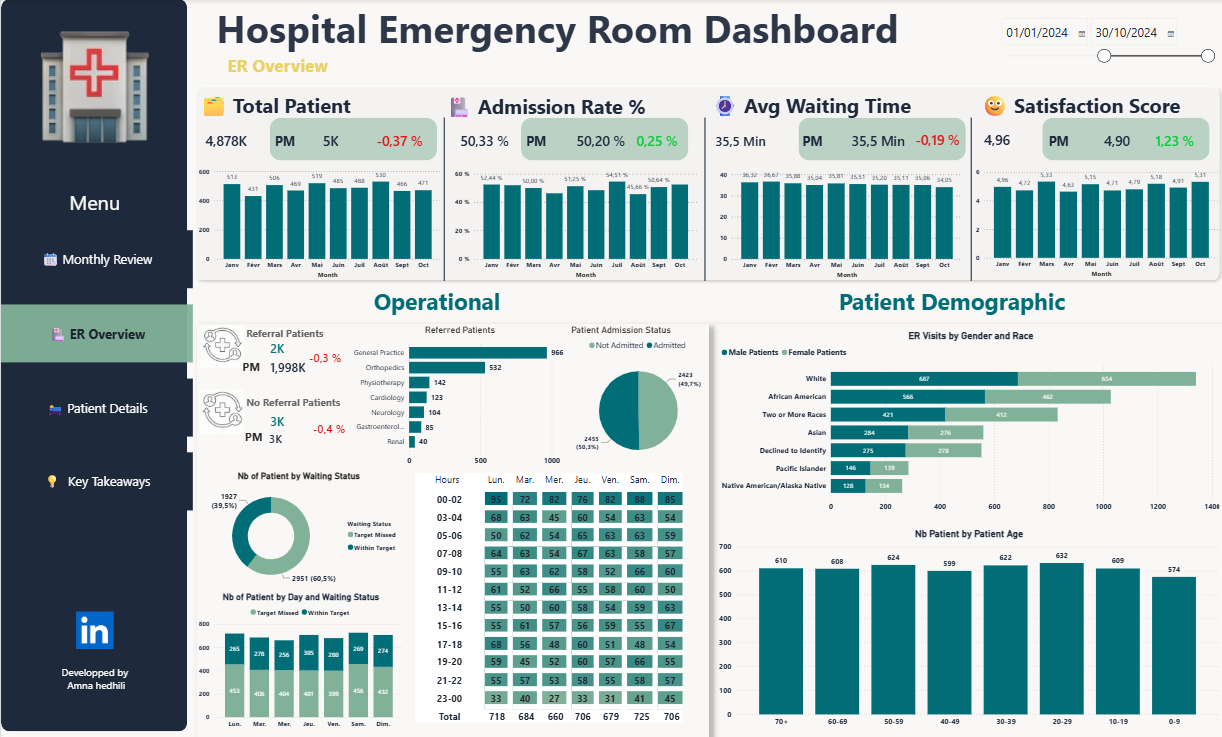

This screenshot's page, from the dashboard's own definition file:
{"tool":"powerbi","page":{"name":"🏥 ER Overview","canvas":[2300,1400],"ordinal":1},"visuals":[{"type":"shape","box":[367.5,610,960,790],"z":0},{"type":"shape","box":[1337.5,610,957.5,790],"z":1000},{"type":"slicer","title":"Date","fields":{"Values":["Date Table.Date"]},"box":[1865.7,25.7,421.4,125.7],"z":2000},{"type":"shape","box":[0,0,349.5,1374.7],"z":3000},{"type":"textbox","box":[367.5,0,1352.5,115],"z":4000},{"type":"textbox","box":[418.8,97.5,352.5,73.8],"z":5000},{"type":"shape","box":[352,152,1946,384],"z":6000},{"type":"textbox","box":[367.1,170,428.6,74.3],"z":7000},{"type":"shape","box":[1708,224,226,306],"z":8000},{"type":"shape","box":[1208,224,226,306],"z":9000},{"type":"shape","box":[718,224,228,306],"z":10000},{"type":"cardVisual","fields":{"Data":["Hospital ER_Data.Nb Of Patient"]},"box":[355,222.5,185,82.5],"z":11000},{"type":"textbox","box":[828,172,476,72],"z":12000},{"type":"textbox","box":[1327.1,170,477.1,74.3],"z":13000},{"type":"textbox","box":[1834.3,170,451.4,74.3],"z":14000},{"type":"textbox","box":[694,532,518,110],"z":15000},{"type":"textbox","box":[1566,532,518,110],"z":16000},{"type":"cardVisual","fields":{"Data":["Hospital ER_Data.Admission Rate %"]},"box":[832.5,222.5,185,82.5],"z":17000},{"type":"cardVisual","fields":{"Data":["Hospital ER_Data.Avg waiting time Min"]},"box":[1312.5,225,187.5,80],"z":18000},{"type":"cardVisual","fields":{"Data":["Hospital ER_Data.Avg Satisfaction Score"]},"box":[1815,220,187.5,85],"z":19000},{"type":"barChart","title":"ER Visits by Gender and Race","fields":{"Category":["Hospital ER_Data.Patient Race"],"Y":["Hospital ER_Data.Male Patients","Hospital ER_Data.Female Patients"]},"box":[1346.2,621.2,947.5,350],"z":20000},{"type":"columnChart","title":"Nb Patient by Patient Age","fields":{"Y":["Hospital ER_Data.Nb Of Patient"],"Category":["Hospital ER_Data.Age Group"]},"box":[1342.5,992.5,950,382.5],"z":21000},{"type":"columnChart","fields":{"Category":["Date Table.Month Name"],"Y":["Hospital ER_Data.Nb Of Patient"]},"box":[366,304,464,226],"z":22000},{"type":"shape","box":[504,224,314,80],"z":23000},{"type":"textbox","box":[510,228,186,82],"z":24000},{"type":"cardVisual","fields":{"Data":["Hospital ER_Data.Patients PM"]},"box":[574,223,140,82],"z":25000},{"type":"cardVisual","fields":{"Data":["Hospital ER_Data.Patient MoM %"]},"box":[675,222.5,162.5,82.5],"z":26000},{"type":"shape","box":[976,224,314,80],"z":27000},{"type":"textbox","box":[980,228,186,82],"z":28000},{"type":"cardVisual","fields":{"Data":["Hospital ER_Data.Admission Rate PM"]},"box":[1050,225,186,80],"z":29000},{"type":"cardVisual","fields":{"Data":["Hospital ER_Data.Admission MoM %"]},"box":[1162.5,222.5,185,82.5],"z":30000},{"type":"columnChart","fields":{"Category":["Date Table.Month Name"],"Y":["Hospital ER_Data.Admission Rate %"]},"box":[846,304,464,226],"z":31000},{"type":"columnChart","fields":{"Category":["Date Table.Month Name"],"Y":["Hospital ER_Data.Avg Waiting Time"]},"box":[1344,304,464,226],"z":32000},{"type":"shape","box":[1496,224,314,80],"z":33000},{"type":"textbox","box":[1500,228,186,82],"z":34000},{"type":"cardVisual","fields":{"Data":["Hospital ER_Data.Avg Waiting Time PM Min"]},"box":[1566,225,186,80],"z":35000},{"type":"cardVisual","fields":{"Data":["Hospital ER_Data.Waiting MoM %"]},"box":[1687.5,220,185,85],"z":36000},{"type":"shape","box":[1954,224,314,80],"z":37000},{"type":"textbox","box":[1960,228,186,82],"z":38000},{"type":"cardVisual","fields":{"Data":["Hospital ER_Data.Avg Satisfaction PM"]},"box":[2042,225,186,80],"z":39000},{"type":"cardVisual","fields":{"Data":["Hospital ER_Data.Satisfaction MoM %"]},"box":[2136,223,164,82],"z":40000},{"type":"columnChart","fields":{"Category":["Date Table.Month Name"],"Y":["Hospital ER_Data.Avg Satisfaction Score"]},"box":[1826,304,464,224],"z":41000},{"type":"barChart","title":"Referred Patients","fields":{"Category":["Hospital ER_Data.Department Referral"],"Y":["Hospital ER_Data.Nb of Referred Patients"]},"box":[645,610,432.5,275],"z":42000},{"type":"cardVisual","fields":{"Data":["Hospital ER_Data.Nb of Referred Patients"]},"box":[475.7,621.4,150,65.7],"z":43000},{"type":"textbox","box":[378.8,643.8,116.2,56.2],"z":44000},{"type":"image","box":[372.9,612.9,84.3,80],"z":45000},{"type":"textbox","box":[448.2,672.1,101.2,52.5],"z":46000},{"type":"cardVisual","fields":{"Data":["Hospital ER_Data.Referred Patient PM"]},"box":[475.7,657.1,150,64.3],"z":47000},{"type":"textbox","box":[456.2,610,188.8,42.5],"z":48000},{"type":"textbox","box":[456.2,738.8,227.5,42.5],"z":49000},{"type":"cardVisual","fields":{"Data":["Hospital ER_Data.No Referral Patients"]},"box":[475.8,757.4,150,65.7],"z":50000},{"type":"textbox","box":[453.7,802.8,101.2,52.5],"z":51000},{"type":"cardVisual","fields":{"Data":["Hospital ER_Data.No Referral Patients PM"]},"box":[474,790.7,150,65],"z":52000},{"type":"image","box":[372,728,84,94],"z":53000},{"type":"pieChart","title":"Patient Admission Status","fields":{"Y":["Hospital ER_Data.Not Admitted","Hospital ER_Data.Admitted"]},"box":[1065,609.9,262.7,274.5],"z":54000},{"type":"columnChart","title":"Nb of Patient by Day and Waiting Status","fields":{"Y":["Hospital ER_Data.Nb Of Patient"],"Series":["Hospital ER_Data.Waiting Satus"],"Category":["Date Table.Day"]},"box":[366,1112,394,266],"z":55000},{"type":"donutChart","title":"Nb of Patient by Waiting Status","fields":{"Y":["Hospital ER_Data.Nb Of Patient"],"Series":["Hospital ER_Data.Waiting Satus"]},"box":[360,884,400,228],"z":56000},{"type":"pivotTable","fields":{"Rows":["Hospital ER_Data.Hour  Group"],"Columns":["Date Table.Day"],"Values":["Hospital ER_Data.Nb Of Patient"]},"box":[771.8,884.4,548.9,492.6],"z":57000},{"type":"cardVisual","fields":{"Data":["Hospital ER_Data.Referred MoM %"]},"box":[550,643.7,140,58.6],"z":58000},{"type":"cardVisual","fields":{"Data":["Hospital ER_Data.No Referral Patients MoM %"]},"box":[555.7,776.5,132.9,57.1],"z":59000},{"type":"image","box":[25.8,58.6,300.3,211.1],"z":60000},{"type":"pageNavigator","box":[0,434,360,527.8],"z":61000},{"type":"textbox","box":[0,351.9,351.9,126.7],"z":62000},{"type":"image","box":[100.9,1149.5,150.1,70.4],"z":63000},{"type":"textbox","box":[25.8,1245.6,300.3,70.4],"z":64000}]}

Visuals, with their boxes in screenshot pixels (x1, y1, x2, y2), scaled from the page's 2300x1400 canvas onto the 1222x737 screenshot:
shape: bbox=[195, 321, 705, 736]
shape: bbox=[711, 321, 1219, 736]
"Date" slicer: bbox=[991, 14, 1215, 80]
shape: bbox=[0, 0, 186, 724]
textbox: bbox=[195, 0, 914, 61]
textbox: bbox=[223, 51, 410, 90]
shape: bbox=[187, 80, 1221, 282]
textbox: bbox=[195, 89, 423, 129]
shape: bbox=[907, 118, 1028, 279]
shape: bbox=[642, 118, 762, 279]
shape: bbox=[381, 118, 503, 279]
cardVisual - Hospital ER_Data.Nb Of Patient: bbox=[189, 117, 287, 161]
textbox: bbox=[440, 91, 693, 128]
textbox: bbox=[705, 89, 959, 129]
textbox: bbox=[975, 89, 1214, 129]
textbox: bbox=[369, 280, 644, 338]
textbox: bbox=[832, 280, 1107, 338]
cardVisual - Hospital ER_Data.Admission Rate %: bbox=[442, 117, 541, 161]
cardVisual - Hospital ER_Data.Avg waiting time Min: bbox=[697, 118, 797, 161]
cardVisual - Hospital ER_Data.Avg Satisfaction Score: bbox=[964, 116, 1064, 161]
"ER Visits by Gender and Race" barChart: bbox=[715, 327, 1219, 511]
"Nb Patient by Patient Age" columnChart: bbox=[713, 522, 1218, 724]
columnChart - Date Table.Month Name x Hospital ER_Data.Nb Of Patient: bbox=[194, 160, 441, 279]
shape: bbox=[268, 118, 435, 160]
textbox: bbox=[271, 120, 370, 163]
cardVisual - Hospital ER_Data.Patients PM: bbox=[305, 117, 379, 161]
cardVisual - Hospital ER_Data.Patient MoM %: bbox=[359, 117, 445, 161]
shape: bbox=[519, 118, 685, 160]
textbox: bbox=[521, 120, 620, 163]
cardVisual - Hospital ER_Data.Admission Rate PM: bbox=[558, 118, 657, 161]
cardVisual - Hospital ER_Data.Admission MoM %: bbox=[618, 117, 716, 161]
columnChart - Date Table.Month Name x Hospital ER_Data.Admission Rate %: bbox=[449, 160, 696, 279]
columnChart - Date Table.Month Name x Hospital ER_Data.Avg Waiting Time: bbox=[714, 160, 961, 279]
shape: bbox=[795, 118, 962, 160]
textbox: bbox=[797, 120, 896, 163]
cardVisual - Hospital ER_Data.Avg Waiting Time PM Min: bbox=[832, 118, 931, 161]
cardVisual - Hospital ER_Data.Waiting MoM %: bbox=[897, 116, 995, 161]
shape: bbox=[1038, 118, 1205, 160]
textbox: bbox=[1041, 120, 1140, 163]
cardVisual - Hospital ER_Data.Avg Satisfaction PM: bbox=[1085, 118, 1184, 161]
cardVisual - Hospital ER_Data.Satisfaction MoM %: bbox=[1135, 117, 1221, 161]
columnChart - Date Table.Month Name x Hospital ER_Data.Avg Satisfaction Score: bbox=[970, 160, 1217, 278]
"Referred Patients" barChart: bbox=[343, 321, 572, 466]
cardVisual - Hospital ER_Data.Nb of Referred Patients: bbox=[253, 327, 332, 362]
textbox: bbox=[201, 339, 263, 368]
image: bbox=[198, 323, 243, 365]
textbox: bbox=[238, 354, 292, 381]
cardVisual - Hospital ER_Data.Referred Patient PM: bbox=[253, 346, 332, 380]
textbox: bbox=[242, 321, 343, 343]
textbox: bbox=[242, 389, 363, 411]
cardVisual - Hospital ER_Data.No Referral Patients: bbox=[253, 399, 332, 433]
textbox: bbox=[241, 423, 295, 450]
cardVisual - Hospital ER_Data.No Referral Patients PM: bbox=[252, 416, 332, 450]
image: bbox=[198, 383, 242, 433]
"Patient Admission Status" pieChart: bbox=[566, 321, 705, 466]
"Nb of Patient by Day and Waiting Status" columnChart: bbox=[194, 585, 404, 725]
"Nb of Patient by Waiting Status" donutChart: bbox=[191, 465, 404, 585]
pivotTable - Hospital ER_Data.Hour  Group x Date Table.Day: bbox=[410, 466, 702, 725]
cardVisual - Hospital ER_Data.Referred MoM %: bbox=[292, 339, 367, 370]
cardVisual - Hospital ER_Data.No Referral Patients MoM %: bbox=[295, 409, 366, 439]
image: bbox=[14, 31, 173, 142]
pageNavigator: bbox=[0, 228, 191, 506]
textbox: bbox=[0, 185, 187, 252]
image: bbox=[54, 605, 133, 642]
textbox: bbox=[14, 656, 173, 693]
